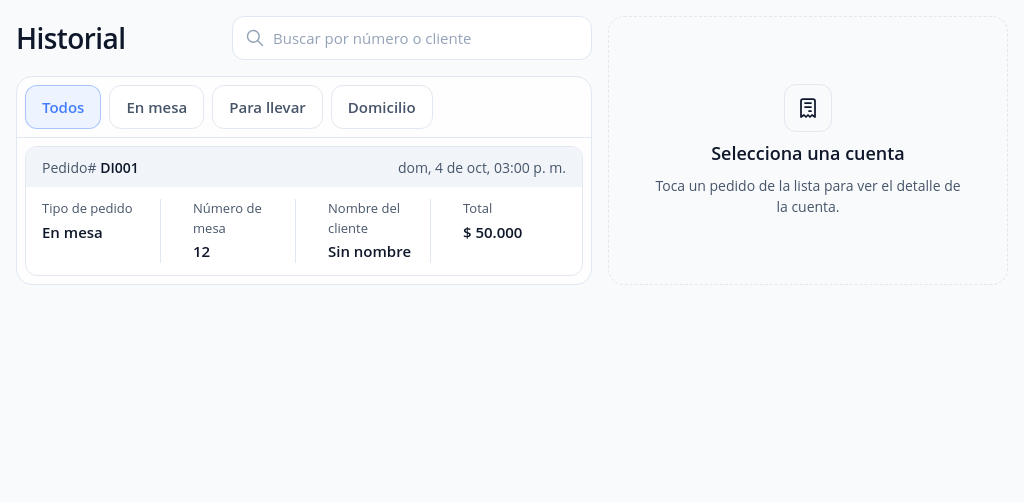
Scenario: un pedido devuelto del todo no ofrece devolver
Click the button "Pedido# DI001" at (304, 167), box [25, 146, 583, 276]
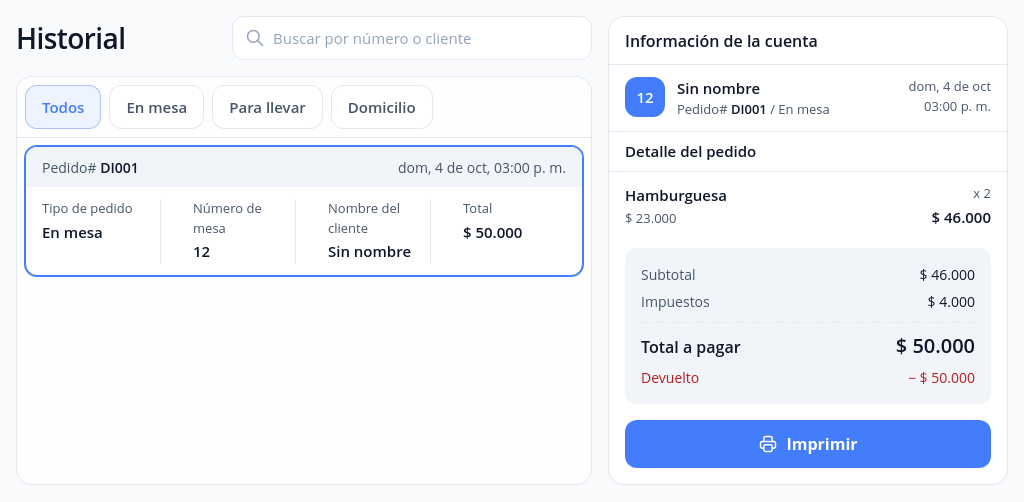
expect the text "Hamburguesa" is shown: met, box [625, 184, 727, 206]
expect the text "− $ 50.000" is shown: met, box [908, 367, 975, 388]
